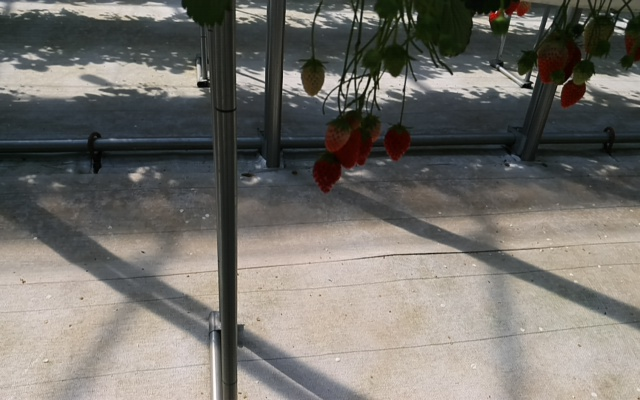GreenStrawberry: (301, 60, 325, 97), (384, 44, 407, 79), (361, 117, 383, 147), (516, 50, 536, 74)
MatureStrawberry: (331, 111, 363, 173), (537, 41, 569, 87), (584, 16, 616, 59), (311, 154, 341, 197), (383, 123, 412, 163), (324, 118, 349, 154), (622, 17, 640, 64), (560, 79, 588, 109), (353, 128, 374, 166), (573, 59, 592, 85)
